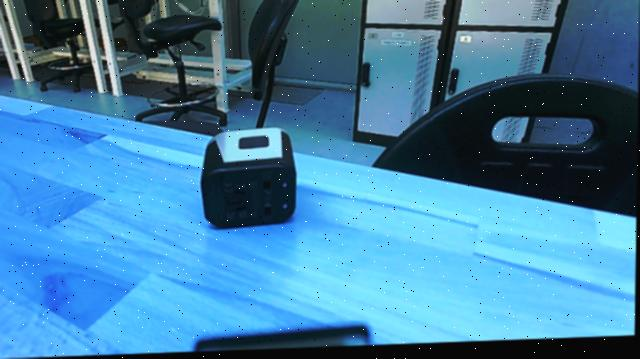adapter: (196, 126, 301, 236)
